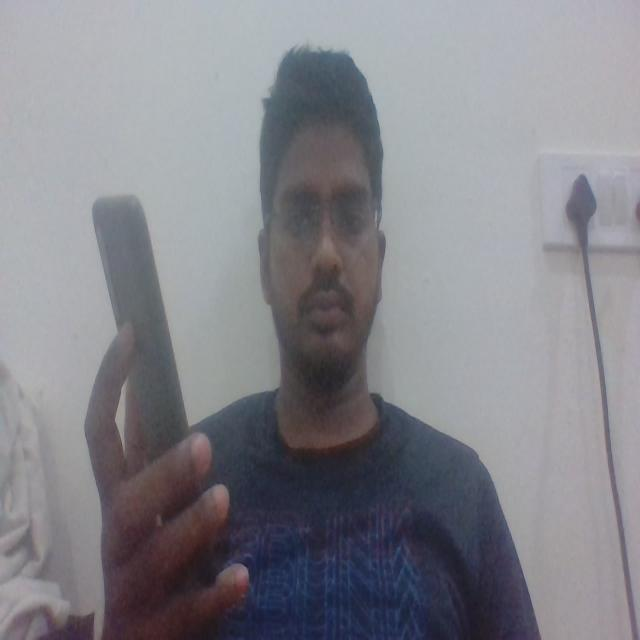Phone: (91, 190, 193, 452)
